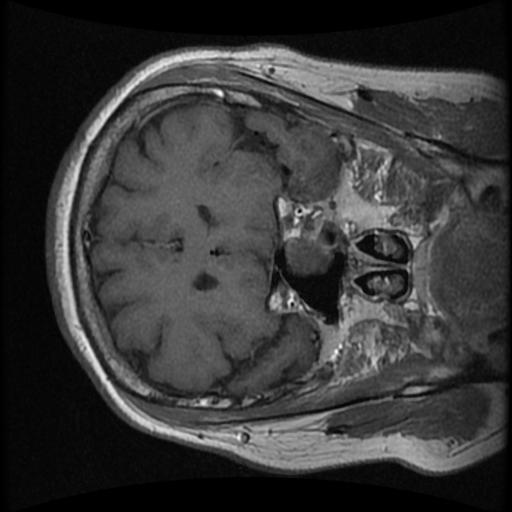pituitary tumour: (284, 228, 331, 274)
